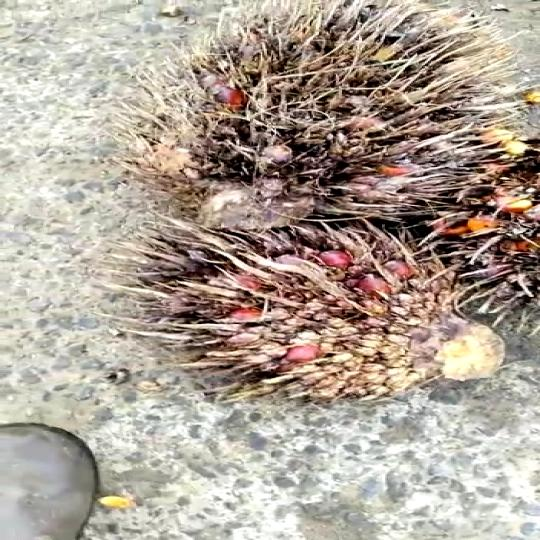terlalu masak: (145, 0, 510, 215), (117, 219, 526, 404)
